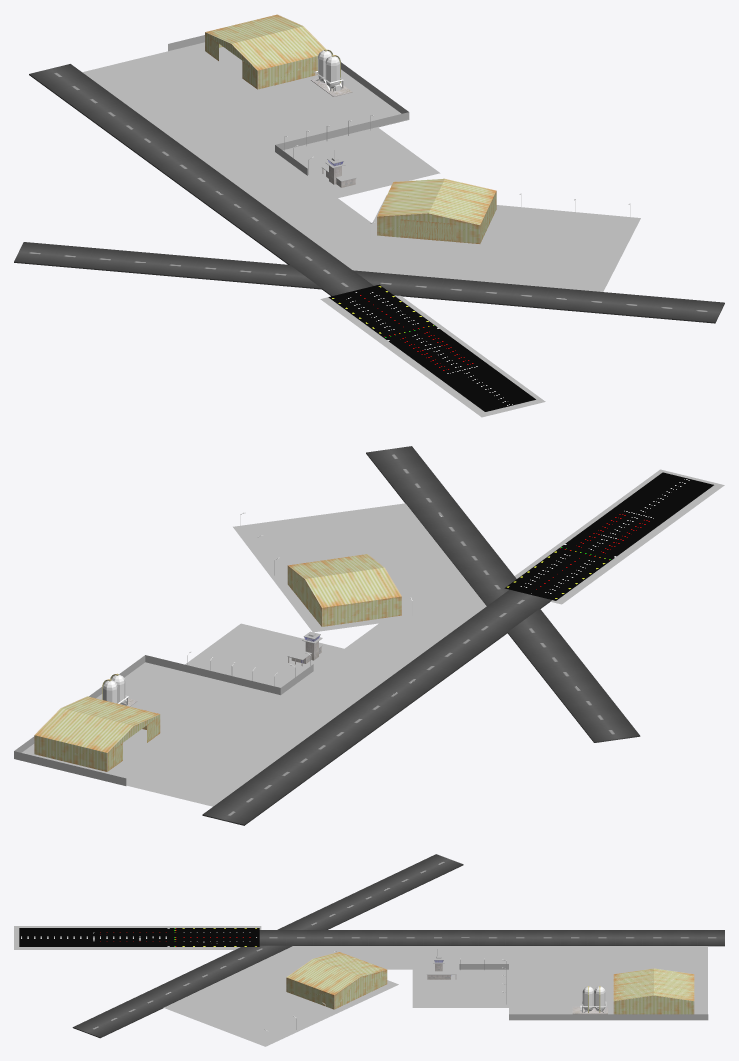
File: airport.obj
3 renders of one model, top to bottom at view 1: azimuth 30°, elevation 25°; view 2: azimuth 150°, elevation 25°; view 3: azimuth 270°, elevation 25°, orthographic. The views are drawn at different scales.
Parts seen in each view (by area): view 1: ashphaltshaded, road, rustedsheet, runwaylights, ashphalt, grill, white; view 2: ashphaltshaded, road, rustedsheet, runwaylights, ashphalt, grill, white; view 3: ashphaltshaded, road, rustedsheet, runwaylights, grill, ashphalt, white, stucco.
Part boxes in pixels (bbox=[...]): ashphaltshaded: bbox=[82, 42, 640, 291]; road: bbox=[14, 64, 724, 323]; rustedsheet: bbox=[205, 14, 496, 243]; runwaylights: bbox=[328, 284, 535, 411]; ashphalt: bbox=[320, 150, 545, 417]; grill: bbox=[168, 35, 409, 175]; white: bbox=[284, 50, 630, 238]; ashphaltshaded: bbox=[22, 503, 486, 806]; road: bbox=[202, 446, 640, 825]; rustedsheet: bbox=[34, 554, 401, 771]; runwaylights: bbox=[504, 472, 713, 600]; ashphalt: bbox=[287, 469, 724, 661]; grill: bbox=[14, 655, 313, 785]; white: bbox=[103, 512, 412, 705]; ashphaltshaded: bbox=[163, 946, 707, 1046]; road: bbox=[72, 854, 724, 1038]; rustedsheet: bbox=[286, 952, 694, 1014]; runwaylights: bbox=[19, 928, 259, 946]; grill: bbox=[459, 964, 708, 1020]; ashphalt: bbox=[14, 926, 456, 978]; white: bbox=[264, 951, 606, 1042]; stucco: bbox=[427, 963, 607, 1014].
Bounding box in the file's own units: 965 × 62.52 × 1506.
